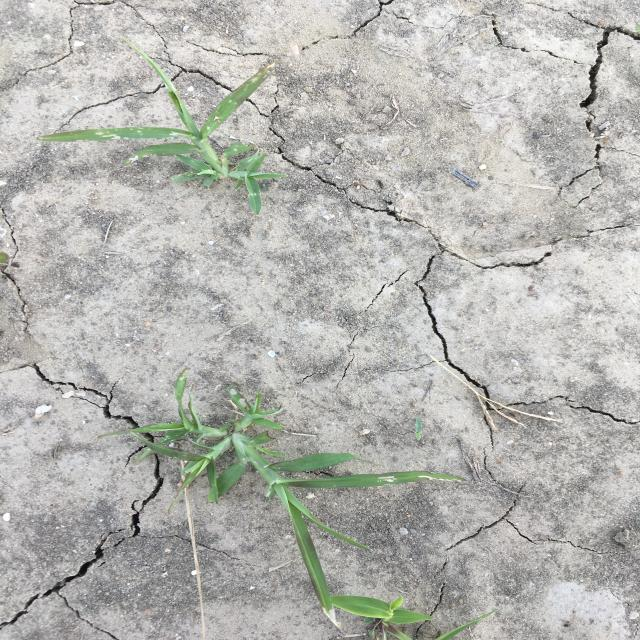Goosegrass: (95, 367, 470, 630), (34, 35, 290, 218)
